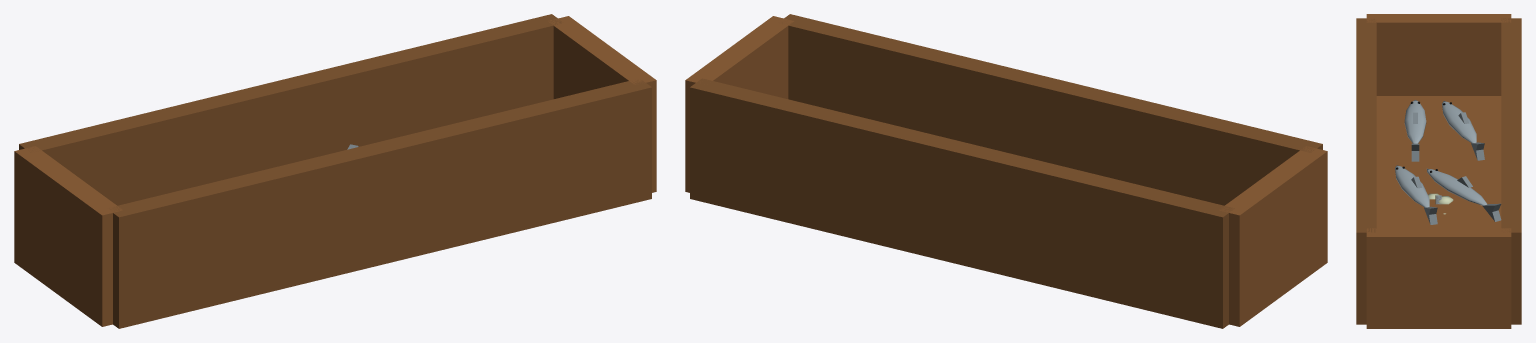
The model's file is Fish_Anchovy.fbx.
3 views of the same model, side by side, from view 1: azimuth 30°, elevation 25°; view 2: azimuth 150°, elevation 25°; view 3: azimuth 270°, elevation 25° (orthographic). The views are drawn at different scales.
Parts seen in each view (by area): view 1: Fish_Anchovy__Stack; view 2: Fish_Anchovy__Stack; view 3: Fish_Anchovy__Stack, Fish_Anchovy__Rotten.
Part boxes in pixels (x1,y1,x2,y2): Fish_Anchovy__Stack: (14,14,656,328); Fish_Anchovy__Stack: (685,14,1327,328); Fish_Anchovy__Stack: (1356,14,1521,328); Fish_Anchovy__Rotten: (1428,193,1453,214).
Bounding box in the file's own units: 0.208 × 0.04 × 0.0651.
